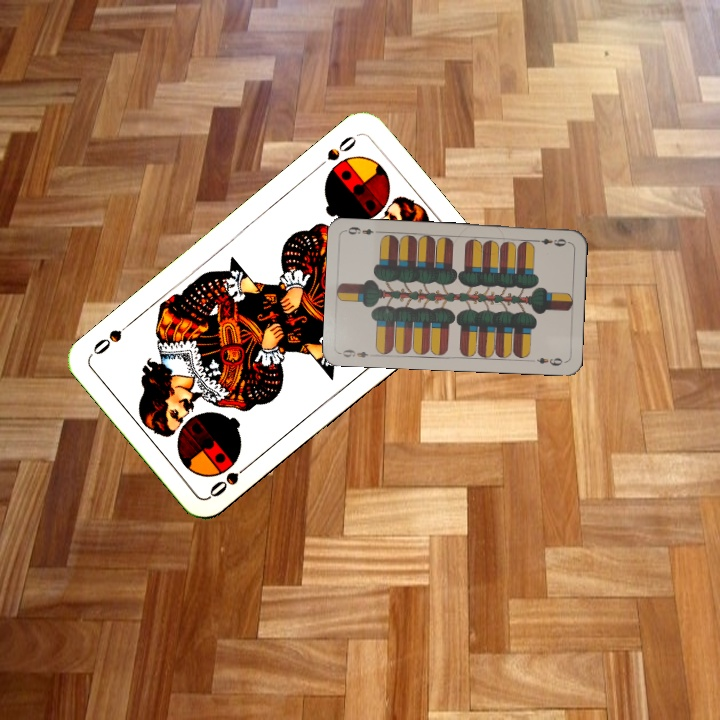E9: (339, 345, 377, 360), (531, 234, 568, 249)
SO: (205, 458, 255, 500), (311, 131, 360, 173)
